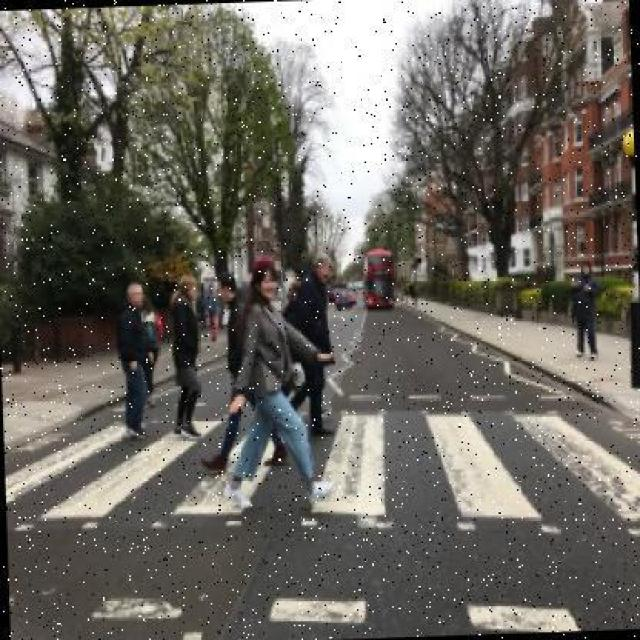Person: (231, 254, 338, 512), (201, 265, 284, 470), (283, 252, 339, 439), (116, 278, 158, 440), (170, 274, 207, 441), (569, 257, 602, 363)
